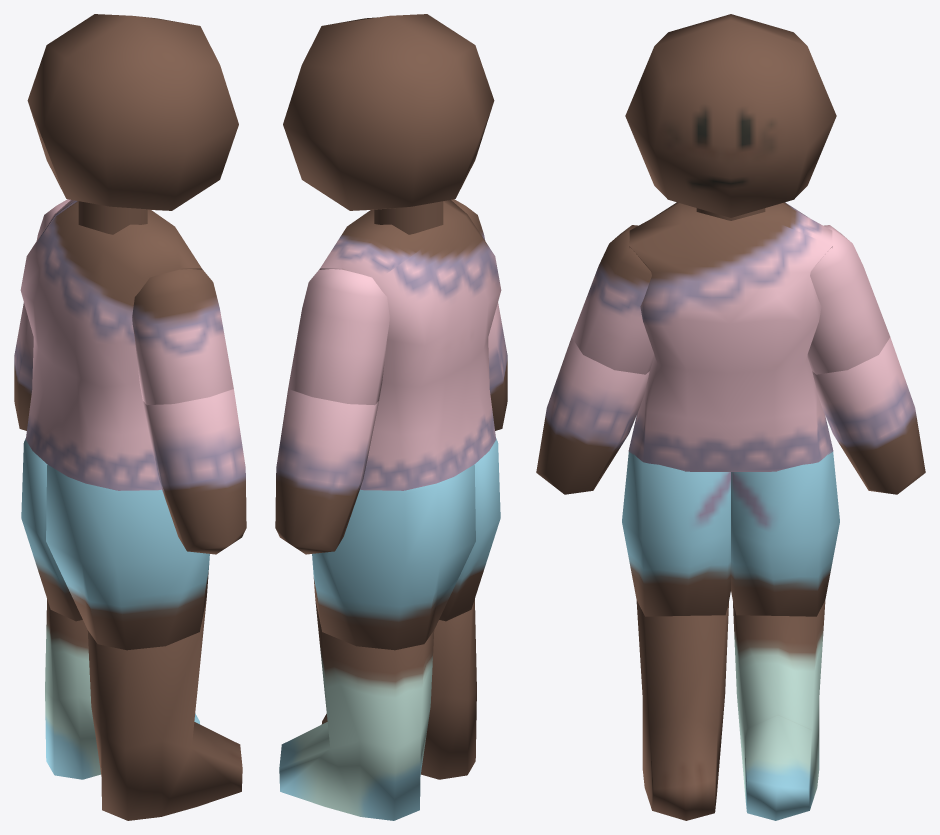
File: TexturePainting.fbx
3 views of the same model, side by side, from view 1: azimuth 30°, elevation 25°; view 2: azimuth 150°, elevation 25°; view 3: azimuth 270°, elevation 25° (orthographic).
Parts seen in each view (by area): view 1: Head.005, Head.003, Head.008, Head.009, Head.007, Head.006, Head.010, Head.011, Head.001, Head.004; view 2: Head.005, Head.003, Head.011, Head.010, Head.001, Head.002, Head.009, Head.008, Head.007, Head.004; view 3: Head.003, Head.005, Head.009, Head.010, Head.008, Head.011, Head.001, Head.007, Head.002, Head.006.
Part boxes in pixels (x1=…): Head.005: x1=27, y1=14, x2=238, y2=210; Head.003: x1=20, y1=200, x2=202, y2=490; Head.008: x1=46, y1=465, x2=209, y2=650; Head.009: x1=87, y1=599, x2=242, y2=820; Head.007: x1=143, y1=389, x2=246, y2=554; Head.006: x1=132, y1=269, x2=233, y2=405; Head.010: x1=45, y1=599, x2=200, y2=779; Head.011: x1=21, y1=438, x2=82, y2=621; Head.001: x1=14, y1=302, x2=33, y2=430; Head.004: x1=78, y1=201, x2=147, y2=234; Head.005: x1=283, y1=14, x2=494, y2=210; Head.003: x1=319, y1=200, x2=501, y2=490; Head.011: x1=312, y1=465, x2=475, y2=650; Head.010: x1=279, y1=599, x2=434, y2=820; Head.001: x1=275, y1=389, x2=378, y2=554; Head.002: x1=288, y1=269, x2=389, y2=405; Head.009: x1=321, y1=599, x2=476, y2=779; Head.008: x1=439, y1=438, x2=500, y2=621; Head.007: x1=488, y1=302, x2=507, y2=430; Head.004: x1=374, y1=201, x2=443, y2=234; Head.003: x1=628, y1=202, x2=833, y2=471; Head.005: x1=625, y1=14, x2=836, y2=217; Head.009: x1=636, y1=600, x2=728, y2=820; Head.010: x1=733, y1=600, x2=825, y2=820; Head.008: x1=622, y1=451, x2=730, y2=616; Head.011: x1=731, y1=451, x2=839, y2=616; Head.001: x1=812, y1=337, x2=925, y2=494; Head.007: x1=536, y1=337, x2=649, y2=494; Head.002: x1=807, y1=225, x2=890, y2=374; Head.006: x1=571, y1=225, x2=654, y2=374.
Size of the model in its own units: 227 by 900 by 418.
1 material, 1 textured.
